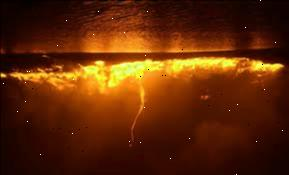fire: (1, 54, 283, 90)
